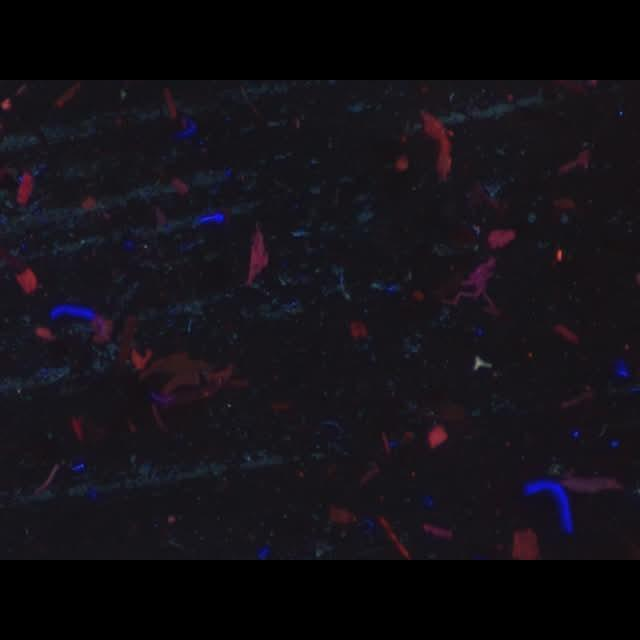Fragment: (512, 528, 538, 560)
